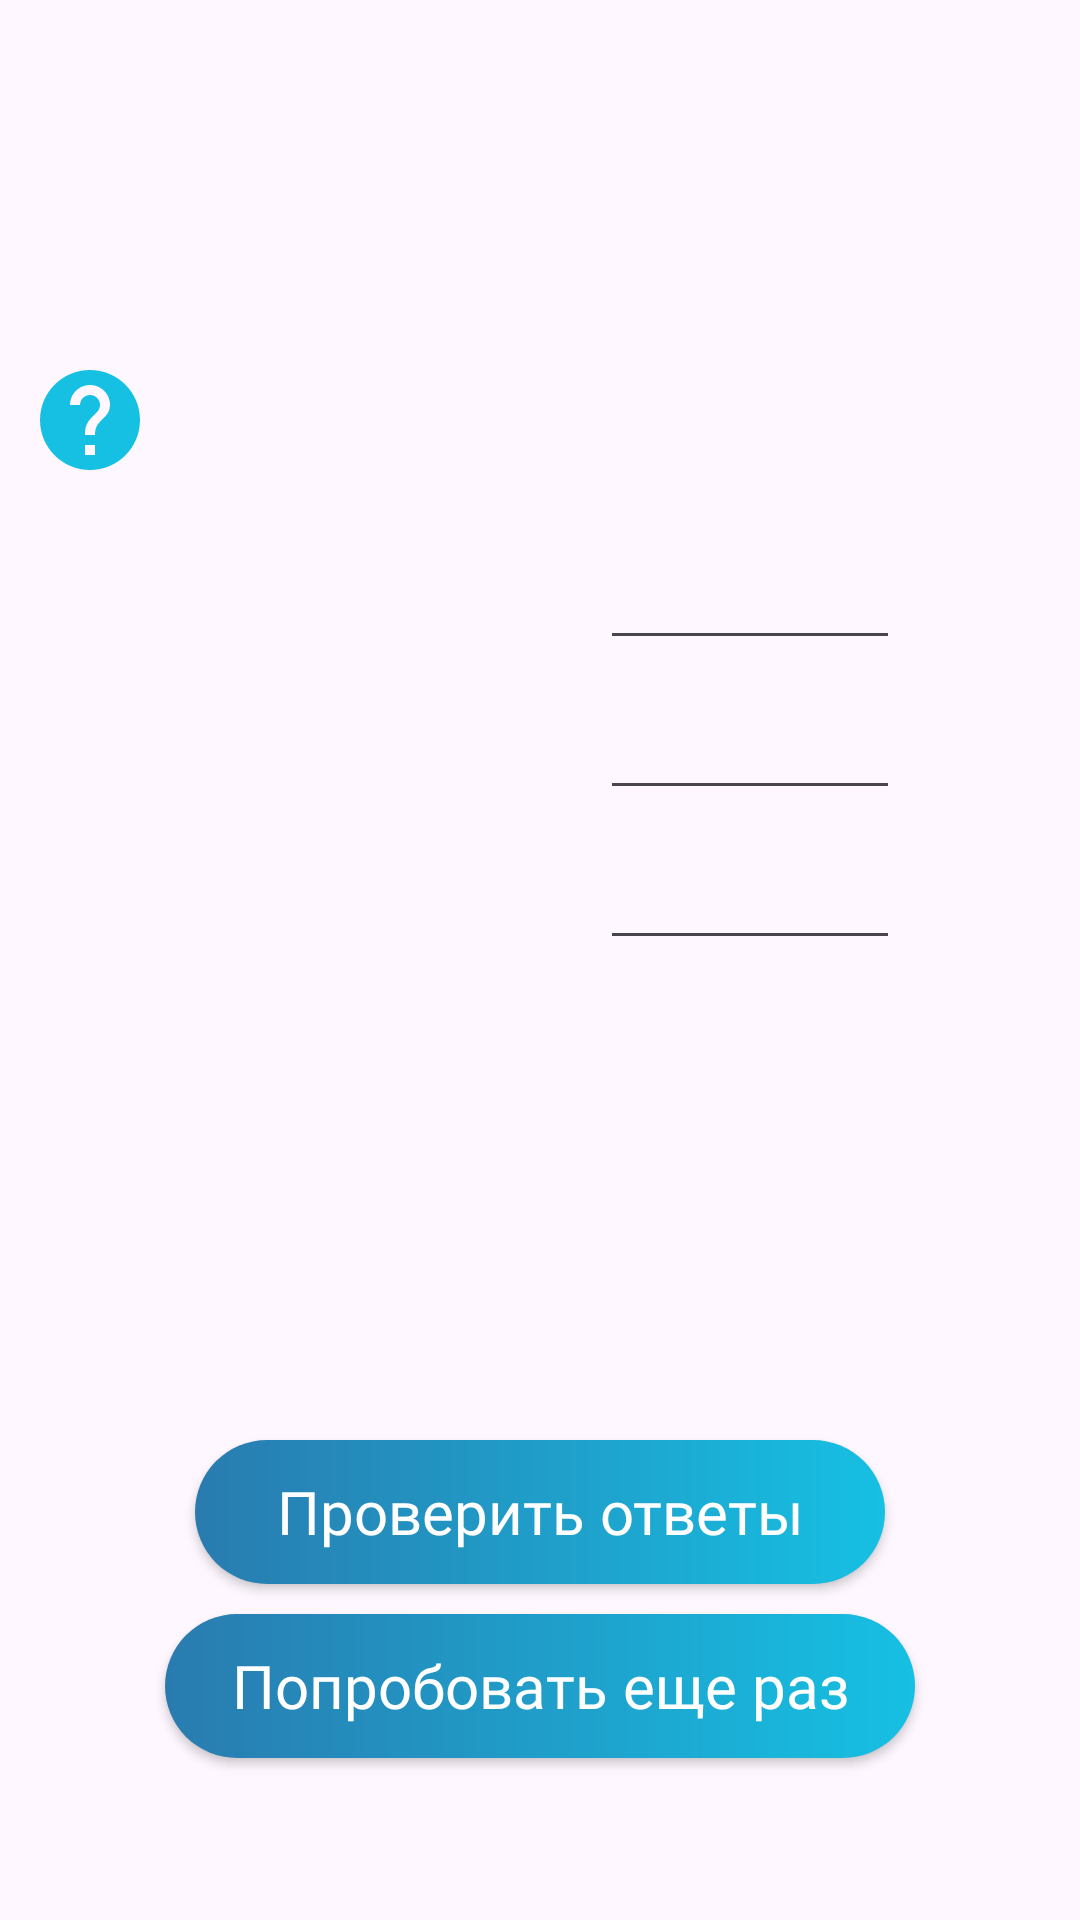

Icon bounding boxes for this 1080x1920 phone screenshot, format region(x1, y1, x2, y2):
help: region(40, 370, 140, 470)
